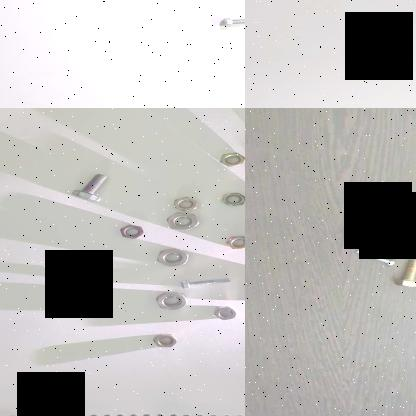Bolts: (344, 200, 388, 238), (64, 173, 112, 203), (176, 272, 237, 292), (355, 247, 395, 270), (397, 258, 416, 294), (214, 12, 245, 32), (404, 212, 416, 238)
NUTS: (152, 292, 190, 314), (164, 212, 200, 235), (150, 249, 190, 268), (145, 332, 179, 353), (167, 196, 202, 212), (218, 152, 244, 170), (212, 304, 236, 323), (220, 190, 245, 208), (118, 224, 146, 240), (220, 235, 245, 251)
